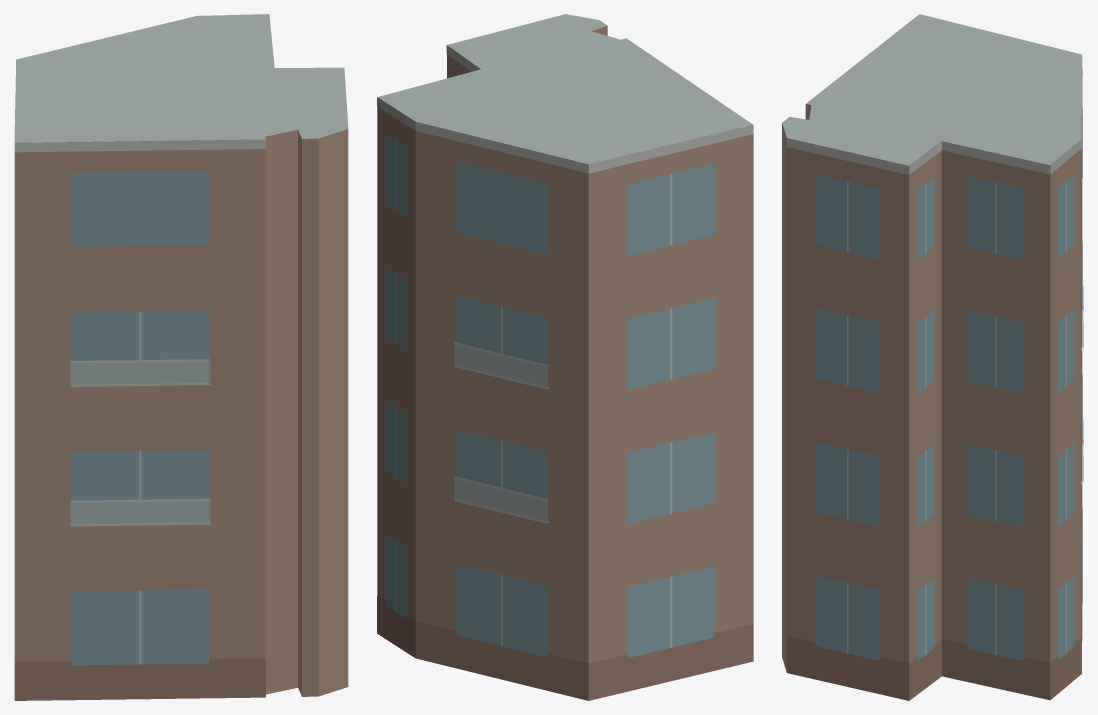
Rendered from survey-upis-32473918.glb.
The picture shows the model from 3 angles, left to right: view 1: azimuth 30°, elevation 25°; view 2: azimuth 150°, elevation 25°; view 3: azimuth 270°, elevation 25°; orthographic projection. The views are drawn at different scales.
Parts seen in each view (by area): view 1: survey-upis-32473918.tmp; view 2: survey-upis-32473918.tmp; view 3: survey-upis-32473918.tmp.
Boxes of the visible parts, bbox=[...] form: survey-upis-32473918.tmp: bbox=[14, 14, 348, 700]; survey-upis-32473918.tmp: bbox=[377, 14, 753, 700]; survey-upis-32473918.tmp: bbox=[782, 14, 1083, 700].
Bounding box in the file's own units: 8.71 × 14.3 × 7.31.
